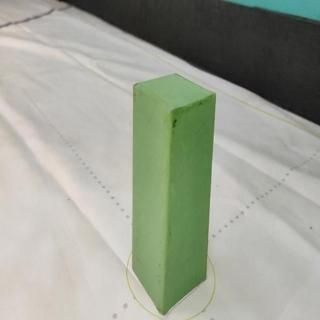greenbox: (132, 71, 217, 311)
